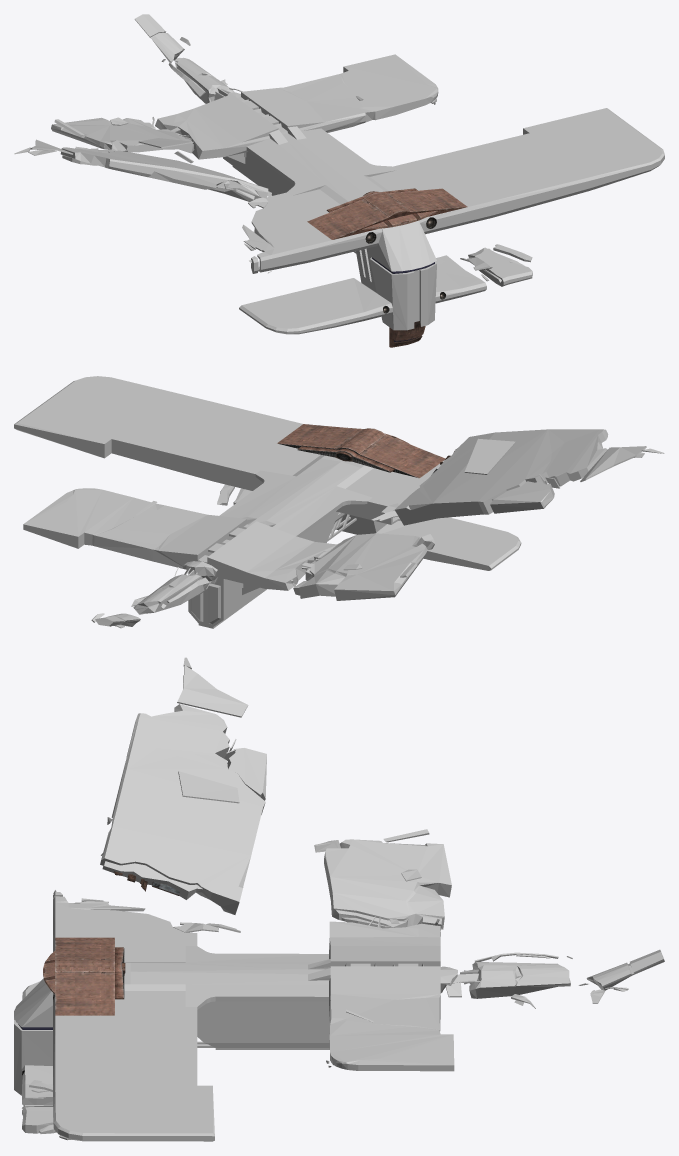
File: spacestation_tradefed_destroyed_hulk_l1.fbx
3 renders of one model, top to bottom at view 1: azimuth 30°, elevation 25°; view 2: azimuth 150°, elevation 25°; view 3: azimuth 270°, elevation 25°, orthographic. The views are drawn at different scales.
Visible parts, largest first — view 1: mesh_node; view 2: mesh_node; view 3: mesh_node.
Boxes of the visible parts, x1,y1,x2,y2 form: mesh_node: [14, 14, 664, 347]; mesh_node: [14, 376, 664, 628]; mesh_node: [14, 657, 664, 1141].
Bounding box in the file's own units: 311 × 113 × 246.
